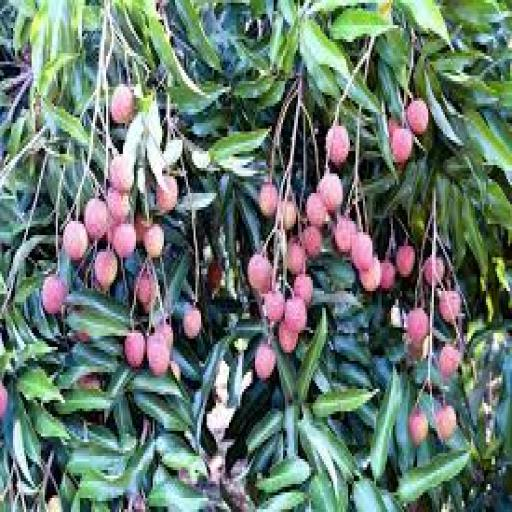lychee: (84, 199, 109, 240), (108, 154, 134, 193), (148, 333, 171, 377), (41, 275, 67, 313), (326, 124, 350, 165), (110, 84, 135, 123), (317, 174, 342, 212), (64, 222, 89, 260), (94, 250, 117, 290), (406, 308, 430, 346), (334, 216, 357, 254), (351, 233, 374, 271), (248, 255, 271, 293), (107, 188, 130, 223), (438, 345, 461, 380), (406, 98, 428, 134), (391, 129, 413, 165), (285, 297, 307, 332), (125, 331, 145, 369), (112, 224, 135, 257), (157, 177, 178, 212), (360, 258, 381, 293), (256, 342, 275, 380), (436, 406, 456, 442), (259, 182, 279, 218), (136, 269, 156, 304), (408, 409, 428, 444), (440, 291, 461, 324), (306, 194, 327, 226), (300, 227, 322, 257), (423, 255, 444, 285), (144, 224, 163, 257), (287, 241, 305, 274), (397, 244, 415, 276), (278, 322, 297, 352), (265, 291, 284, 321), (183, 308, 202, 338), (293, 275, 312, 304), (207, 261, 223, 293), (155, 322, 175, 346), (380, 261, 396, 290), (282, 199, 297, 229), (135, 216, 150, 243), (0, 384, 9, 419), (388, 118, 400, 139), (170, 361, 180, 380)
